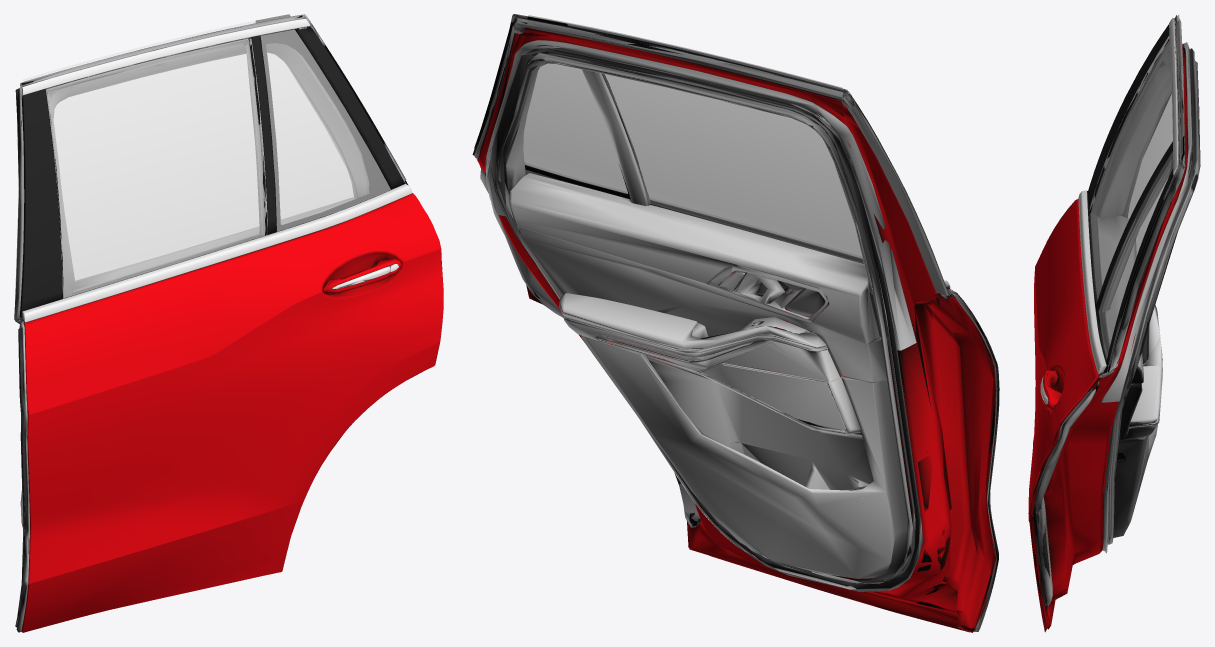
Rendered from O_G05_Doors_B.glb.
3 renders of one model, left to right at view 1: azimuth 30°, elevation 25°; view 2: azimuth 150°, elevation 25°; view 3: azimuth 270°, elevation 25°, orthographic. The views are drawn at different scales.
Parts seen in each view (by area): view 1: 002_Door_B_paint, 007_Door_B_glass, 001_Door_B_interior, 006_Door_B_plastic_grained, 003_Door_B_chrome_matte, 005_Door_B_plastic_glossy; view 2: 001_Door_B_interior, 002_Door_B_paint, 007_Door_B_glass, 003_Door_B_chrome_matte; view 3: 001_Door_B_interior, 002_Door_B_paint, 007_Door_B_glass, 006_Door_B_plastic_grained, 003_Door_B_chrome_matte, 005_Door_B_plastic_glossy.
Part boxes in pixels (<box>): 002_Door_B_paint: <box>21,44,443,632</box>; 007_Door_B_glass: <box>22,14,390,298</box>; 001_Door_B_interior: <box>14,14,406,632</box>; 006_Door_B_plastic_grained: <box>20,15,410,322</box>; 003_Door_B_chrome_matte: <box>21,18,412,322</box>; 005_Door_B_plastic_glossy: <box>256,14,390,231</box>; 001_Door_B_interior: <box>472,14,999,631</box>; 002_Door_B_paint: <box>477,27,995,632</box>; 007_Door_B_glass: <box>523,15,863,263</box>; 003_Door_B_chrome_matte: <box>525,91,950,288</box>; 001_Door_B_interior: <box>1033,15,1200,610</box>; 002_Door_B_paint: <box>1028,44,1187,632</box>; 007_Door_B_glass: <box>1090,15,1182,357</box>; 006_Door_B_plastic_grained: <box>1053,16,1180,407</box>; 003_Door_B_chrome_matte: <box>1078,18,1178,374</box>; 005_Door_B_plastic_glossy: <box>1100,136,1184,353</box>.
Bounding box in the file's own units: 117 × 130 × 38.6.
